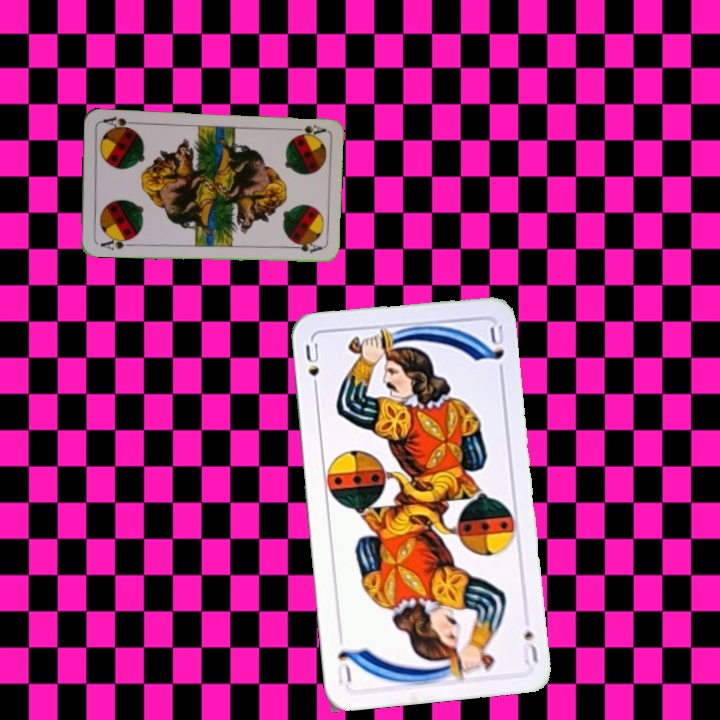SA: (96, 233, 135, 253), (287, 121, 328, 139)
SU: (301, 338, 322, 396), (519, 626, 541, 667)
